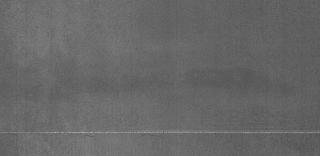welding line: (1, 126, 320, 138)
